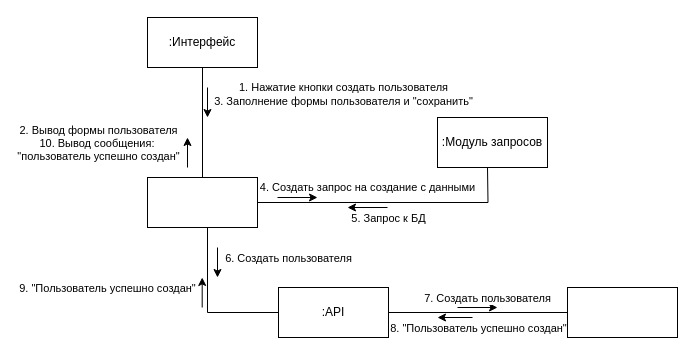
Some shapes in this 695 by 355 pixel diagram are drawn without their labels. The shapes that lost their labels are listed below. From the top down, each one's centre as x and y in pixels, then its label:
At (202,202): ":Модуль управления".
At (622,312): ":База данных".
